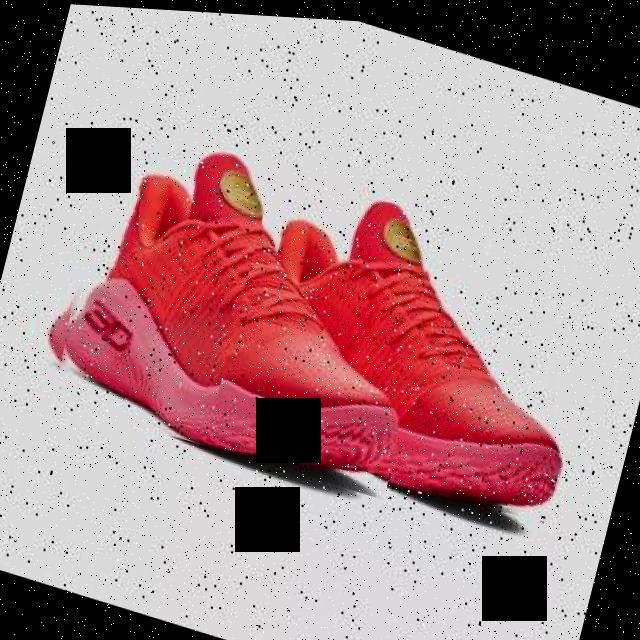shoe: (35, 111, 453, 500), (209, 163, 612, 525)
